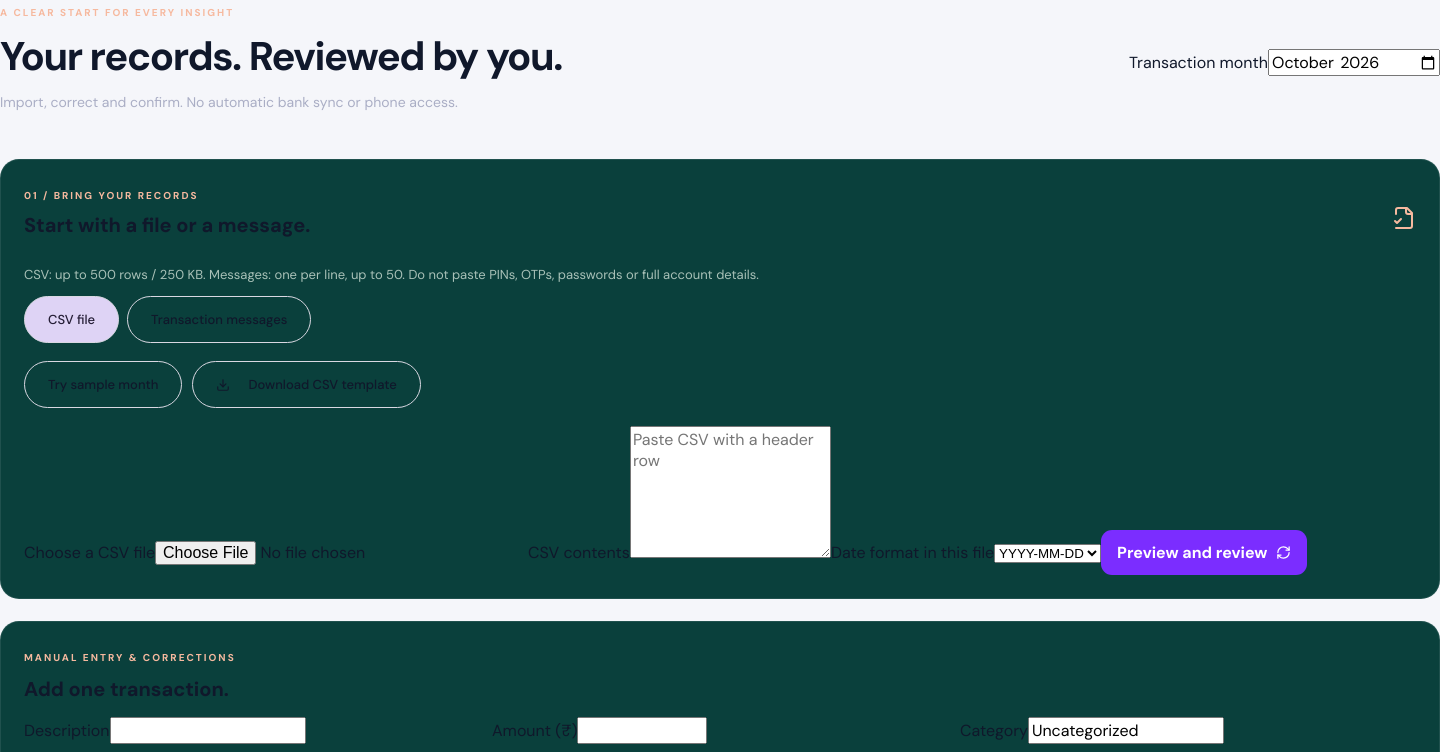
reviews edits and commits selected rows only
Click the button "Try sample month" at x=103, y=384, box x1=24 y1=361 x2=182 y2=408
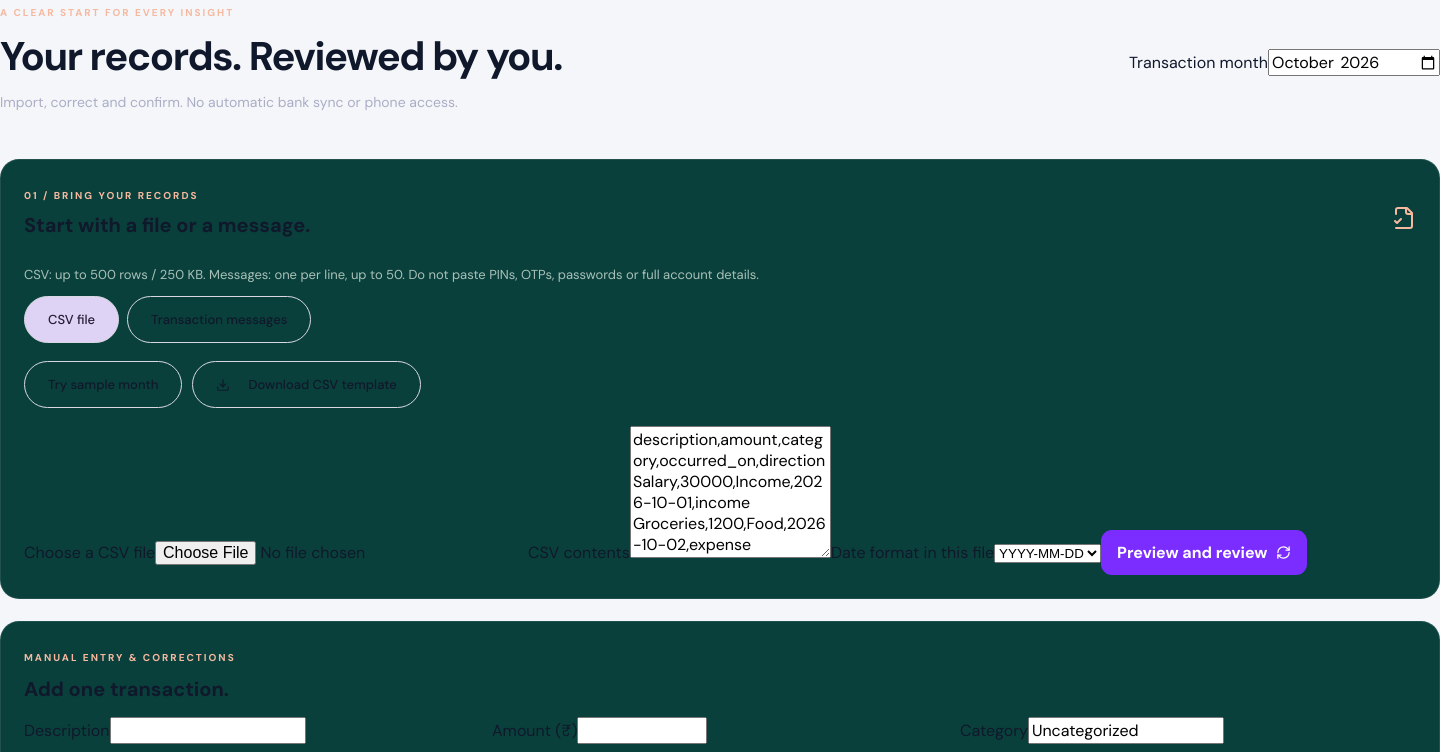
Click the button "Preview and review" at x=1204, y=552, box x1=1101 y1=530 x2=1307 y2=575
(page scrolled)
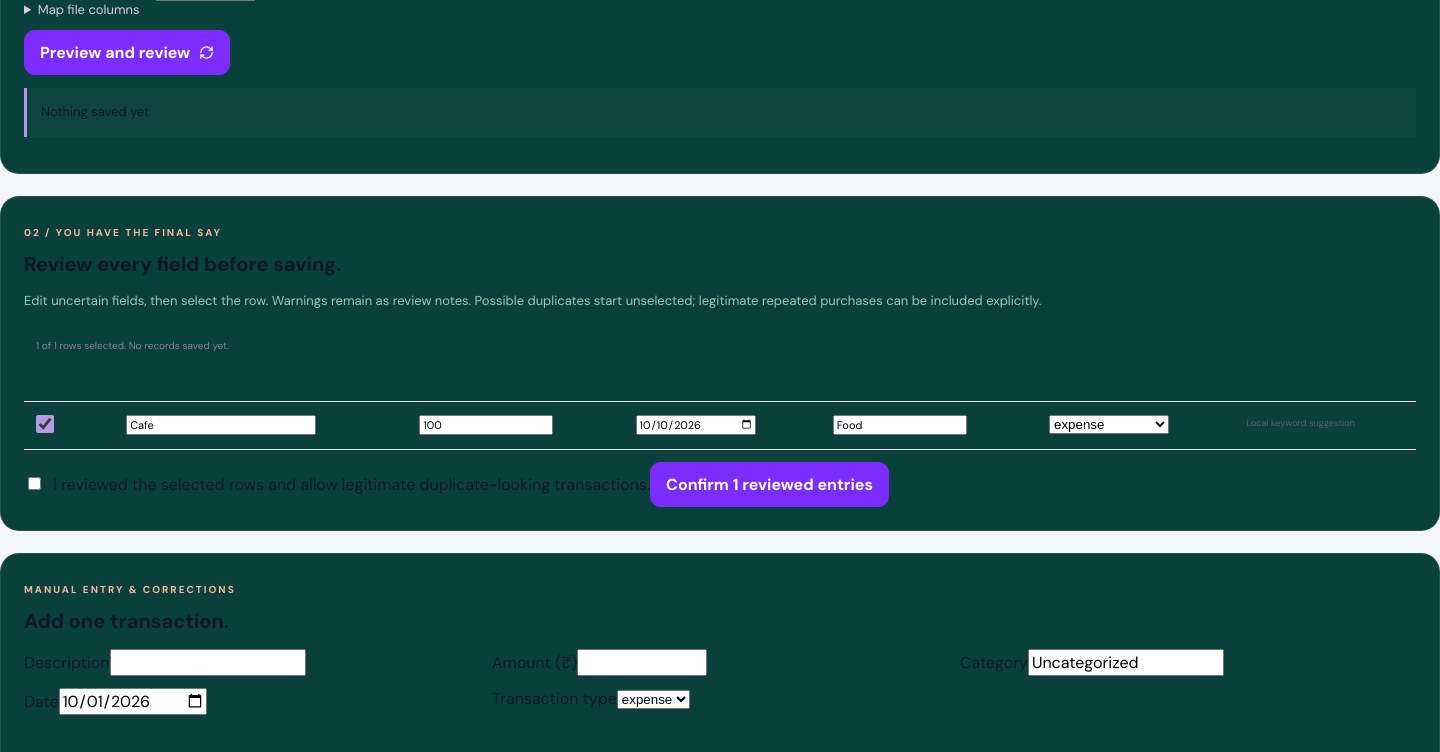
Now the number field named "Row 2 amount" is shown
Replace the text in the number field named "Row 2 amount" with "150.29" at x=486, y=425, box x1=419 y1=415 x2=553 y2=435
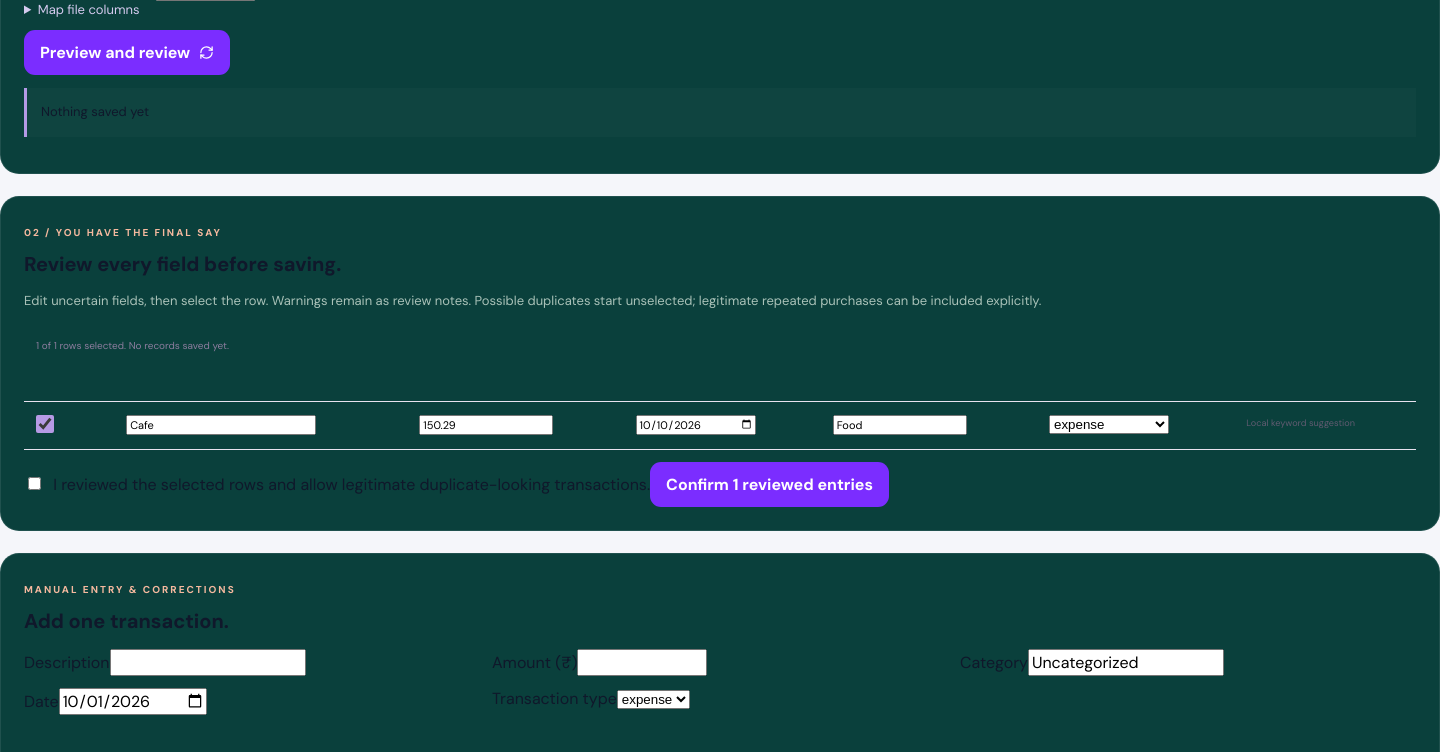
Click the button "Confirm 1 reviewed entries" at x=770, y=484, box x1=650 y1=462 x2=889 y2=507
(page scrolled)
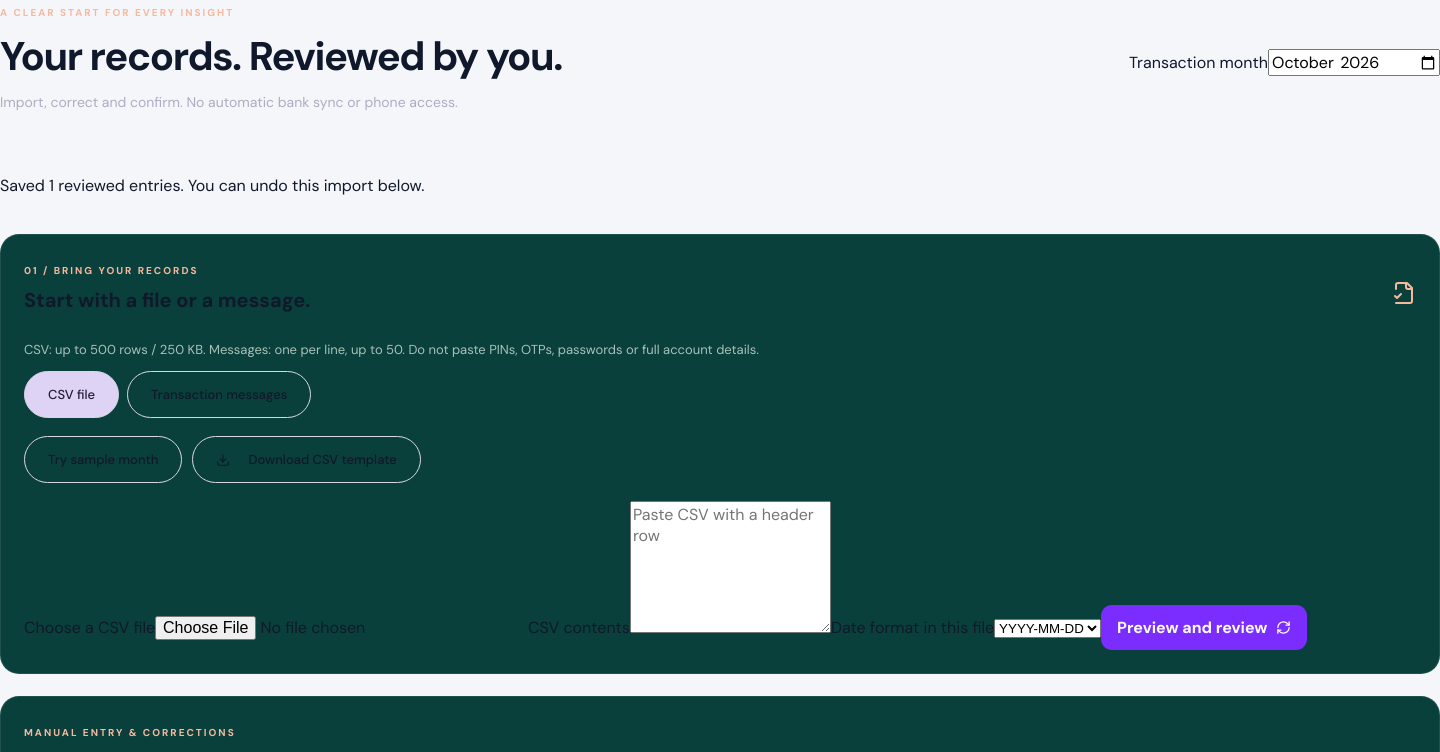
Now the text "Saved 1 reviewed entries. You can undo this import below." is shown, box x1=0 y1=175 x2=424 y2=196
